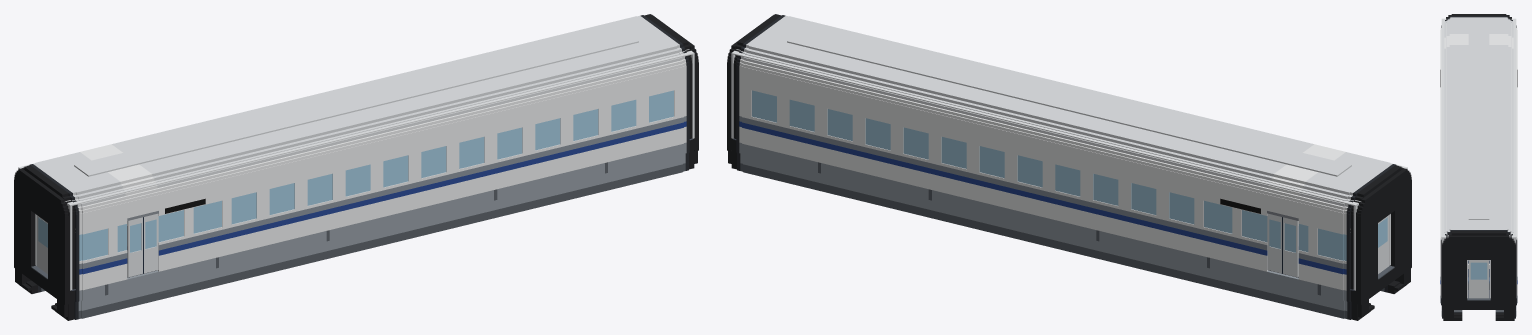
File: transrapid_car.obj
3 views of the same model, side by side, from view 1: azimuth 30°, elevation 25°; view 2: azimuth 150°, elevation 25°; view 3: azimuth 270°, elevation 25° (orthographic). The views are drawn at different scales.
Parts seen in each view (by area): view 1: SHELL, SHELL_roof, SHELL_diaphragm, SHELL_ceiling, EXTERNAL_DOOR_4_CG_DR1_TOGGLE_TL_-0.54_X, EXTERNAL_DOOR_5_CG_DR1_TOGGLE_TL_0.54_X, SHELL_end, CONNECTING_DOOR_1_CG_CR_TOGGLE_TL_0.98_Z; view 2: SHELL, SHELL_roof, SHELL_diaphragm, SHELL_ceiling, EXTERNAL_DOOR_7_CG_DL1_TOGGLE_TL_-0.54_X, EXTERNAL_DOOR_8_CG_DL1_TOGGLE_TL_0.54_X, SHELL_end, CONNECTING_DOOR_1_CG_CR_TOGGLE_TL_0.98_Z; view 3: SHELL, SHELL_diaphragm, SHELL_roof, SHELL_ceiling, CONNECTING_DOOR_2_CG_CF_TOGGLE_TL_0.98_Z, SHELL_end, SHELL_gangway.
Boxes of the visible parts, x1,y1,x2,y2 form: SHELL: (19,14,695,320); SHELL_roof: (74,30,638,176); SHELL_diaphragm: (14,15,698,317); SHELL_ceiling: (20,49,692,205); EXTERNAL_DOOR_4_CG_DR1_TOGGLE_TL_-0.54_X: (127,217,143,277); EXTERNAL_DOOR_5_CG_DR1_TOGGLE_TL_0.54_X: (144,213,158,273); SHELL_end: (18,49,694,290); CONNECTING_DOOR_1_CG_CR_TOGGLE_TL_0.98_Z: (37,215,47,273); SHELL: (730,14,1406,320); SHELL_roof: (787,30,1351,176); SHELL_diaphragm: (727,15,1411,317); SHELL_ceiling: (733,49,1405,205); EXTERNAL_DOOR_7_CG_DL1_TOGGLE_TL_-0.54_X: (1282,217,1298,277); EXTERNAL_DOOR_8_CG_DL1_TOGGLE_TL_0.54_X: (1267,213,1281,273); SHELL_end: (731,49,1407,290); CONNECTING_DOOR_1_CG_CR_TOGGLE_TL_0.98_Z: (1378,215,1388,273); SHELL: (1440,14,1517,320); SHELL_diaphragm: (1442,15,1515,319); SHELL_roof: (1468,26,1489,219); SHELL_ceiling: (1441,19,1516,236); CONNECTING_DOOR_2_CG_CF_TOGGLE_TL_0.98_Z: (1468,260,1489,298); SHELL_end: (1441,18,1516,298); SHELL_gangway: (1467,297,1490,300).
Size of the model in its own units: 25.12 by 4.67 by 3.72.
Materials: 1 (1 with a texture image).
